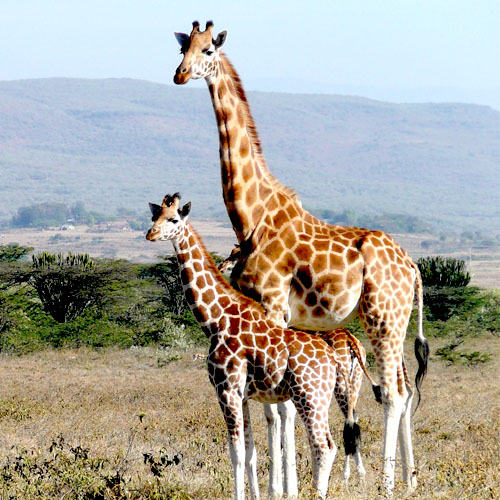Jirafa: (155, 7, 312, 178), (130, 174, 211, 273)
